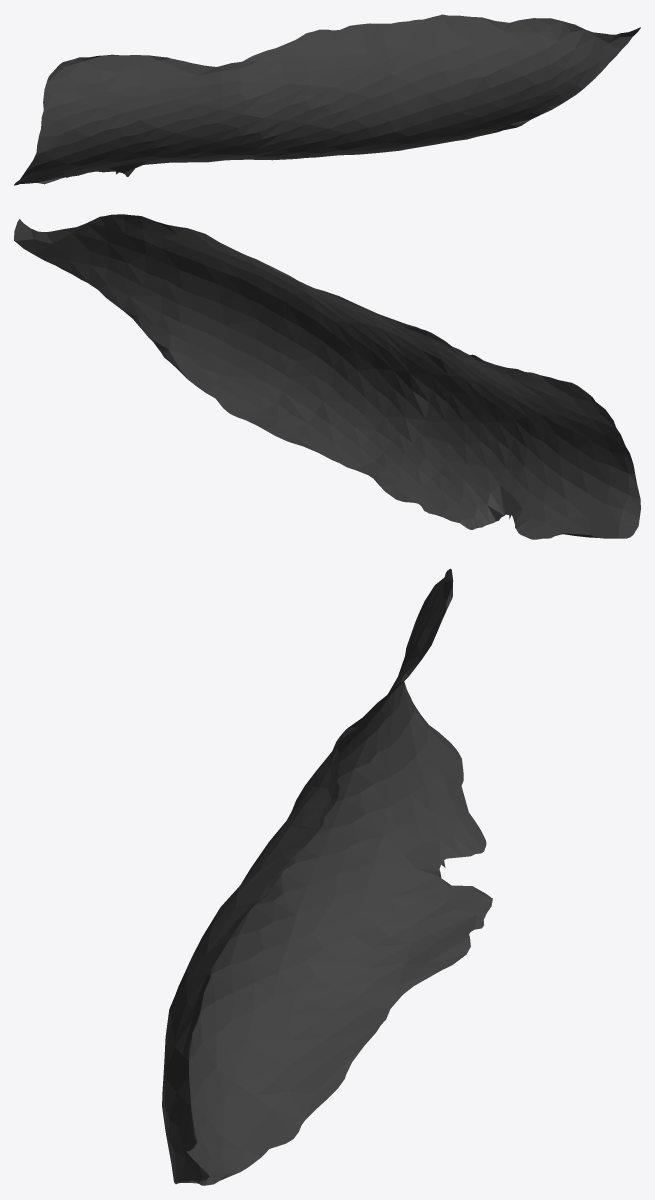
Rendered from Trachea_Trachea.glb.
The picture shows the model from 3 angles, top to bottom: view 1: azimuth 30°, elevation 25°; view 2: azimuth 150°, elevation 25°; view 3: azimuth 270°, elevation 25°; orthographic projection. The views are drawn at different scales.
Parts seen in each view (by area): view 1: Trachea_Trachea; view 2: Trachea_Trachea; view 3: Trachea_Trachea.
Part boxes in pixels (box(x1,y1,x2,y2)): Trachea_Trachea: box(14, 14, 640, 185); Trachea_Trachea: box(14, 214, 640, 539); Trachea_Trachea: box(162, 568, 492, 1185).
Bounding box in the file's own units: 0.0536 × 0.012 × 0.0137.
1 material, 1 textured.
